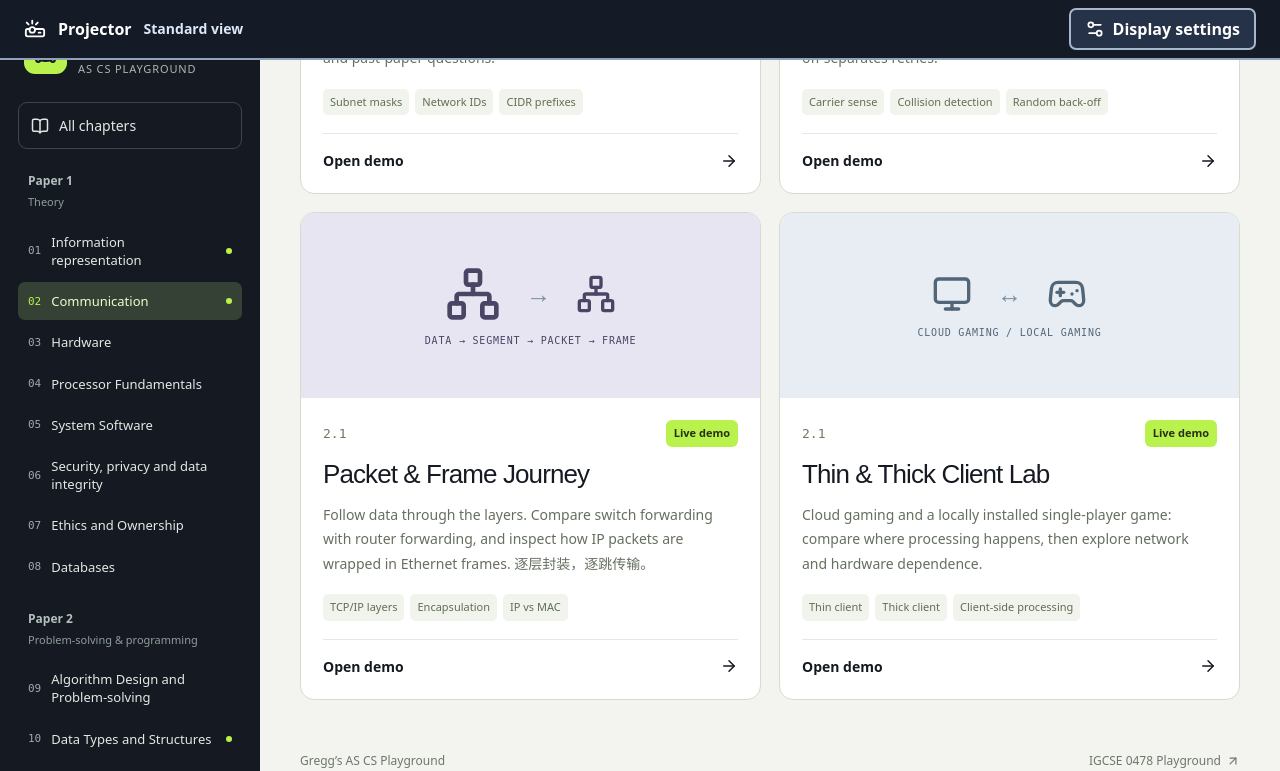
Test: AS chapter catalogue › launches the thin/thick client game from Networks and returns to its chapter
(page scrolled)
Expected: the heading "Thin & Thick Client Lab" is shown, x1=802 y1=459 x2=1049 y2=489
Click the link with aria-label "Open Thin & Thick Client Lab" at (1010, 456), box x1=779 y1=212 x2=1240 y2=700
(page scrolled)
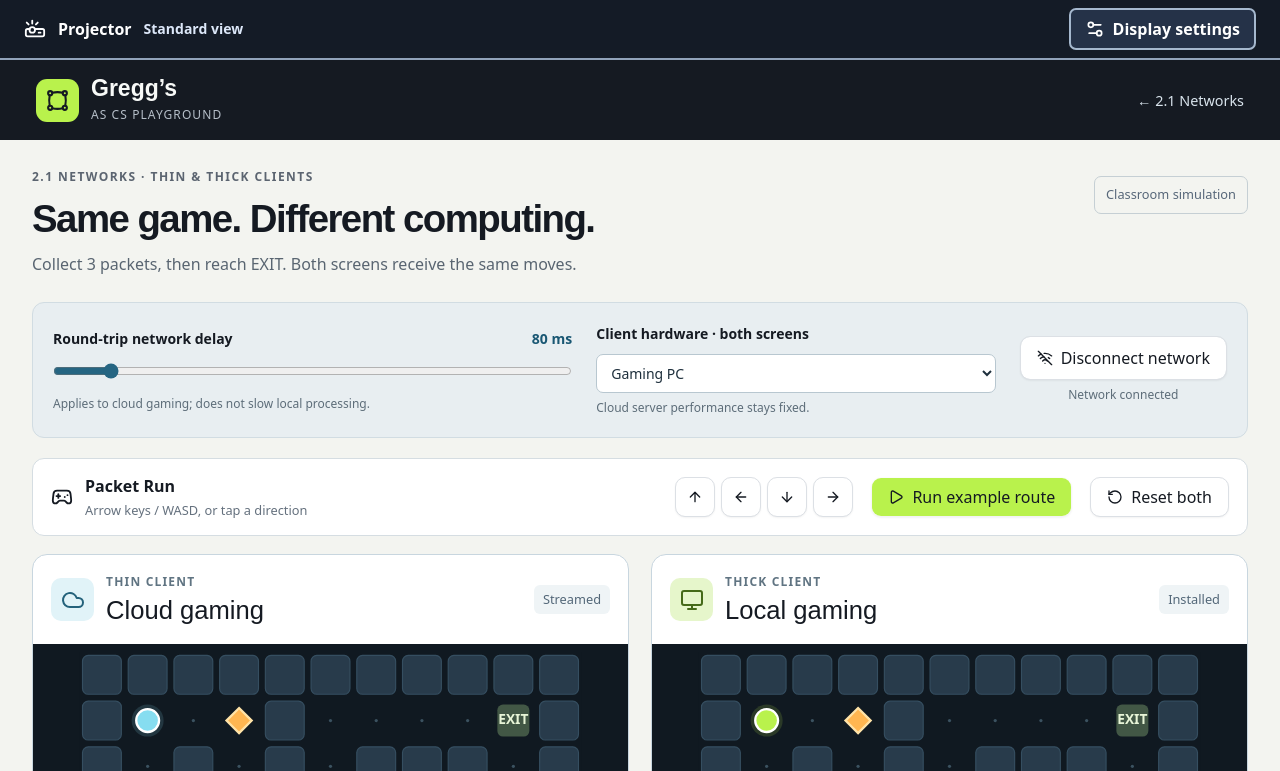
Expected: the button "Run example route" is shown, x1=871 y1=477 x2=1072 y2=517
Click the link "← 2.1 Networks" at (1190, 100), box x1=1137 y1=90 x2=1244 y2=111
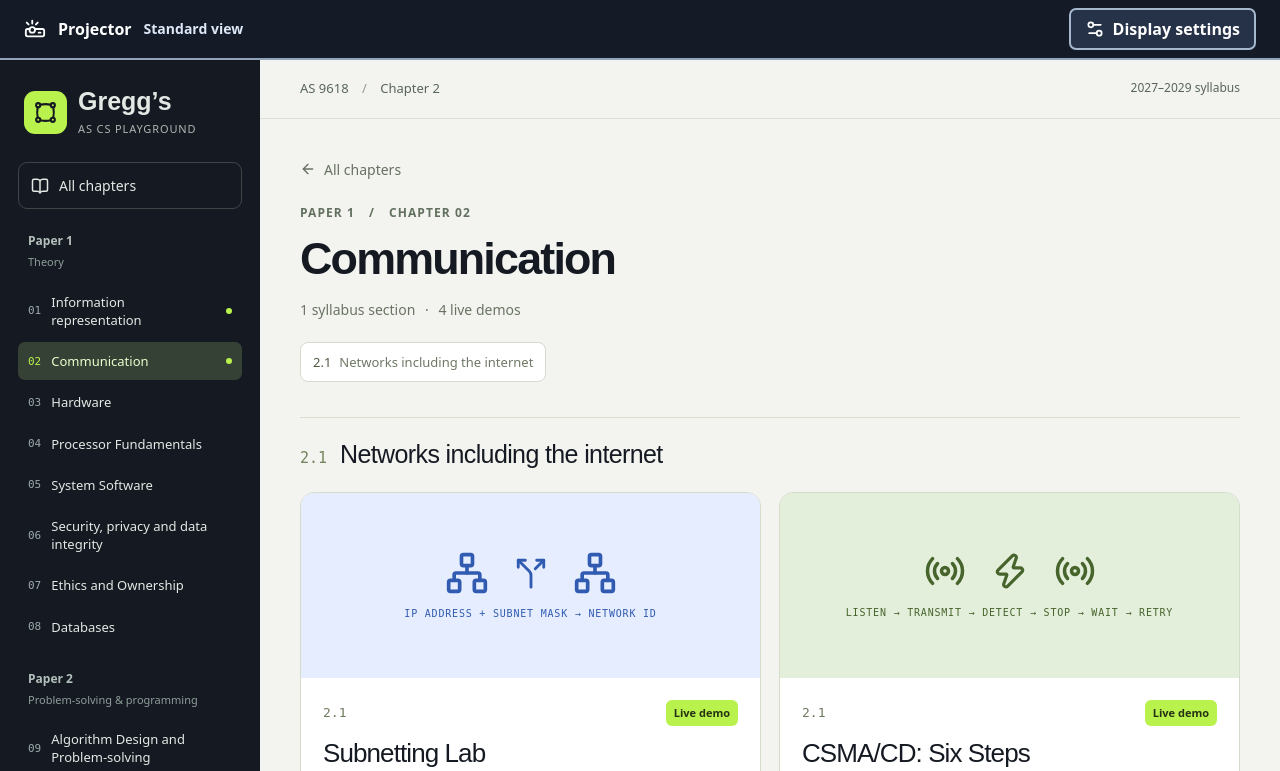
Expected: the heading "Communication" is shown, x1=300 y1=233 x2=615 y2=283
